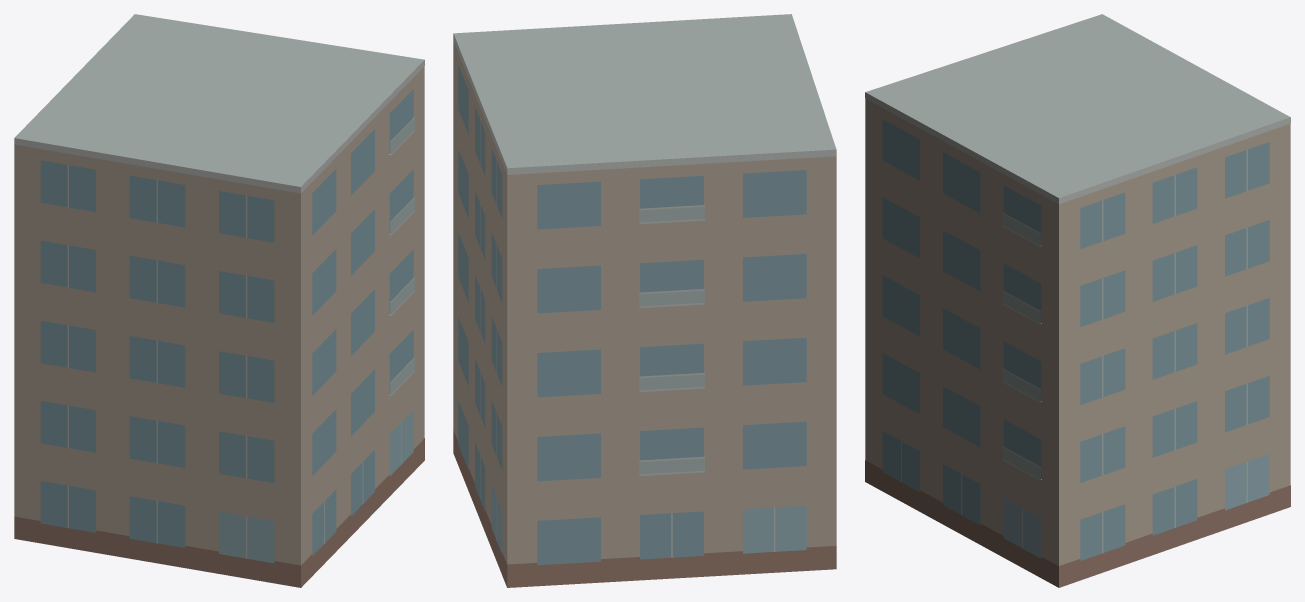
The model's file is survey-upis-32859107.glb.
3 views of the same model, side by side, from view 1: azimuth 30°, elevation 25°; view 2: azimuth 150°, elevation 25°; view 3: azimuth 270°, elevation 25° (orthographic). The views are drawn at different scales.
Visible parts, largest first — view 1: survey-upis-32859107.tmp; view 2: survey-upis-32859107.tmp; view 3: survey-upis-32859107.tmp.
Part boxes in pixels (x1=…): survey-upis-32859107.tmp: x1=14, y1=14, x2=424, y2=587; survey-upis-32859107.tmp: x1=453, y1=14, x2=836, y2=587; survey-upis-32859107.tmp: x1=865, y1=14, x2=1290, y2=587.
Bounding box in the file's own units: 15.47 × 15.25 × 15.1.
